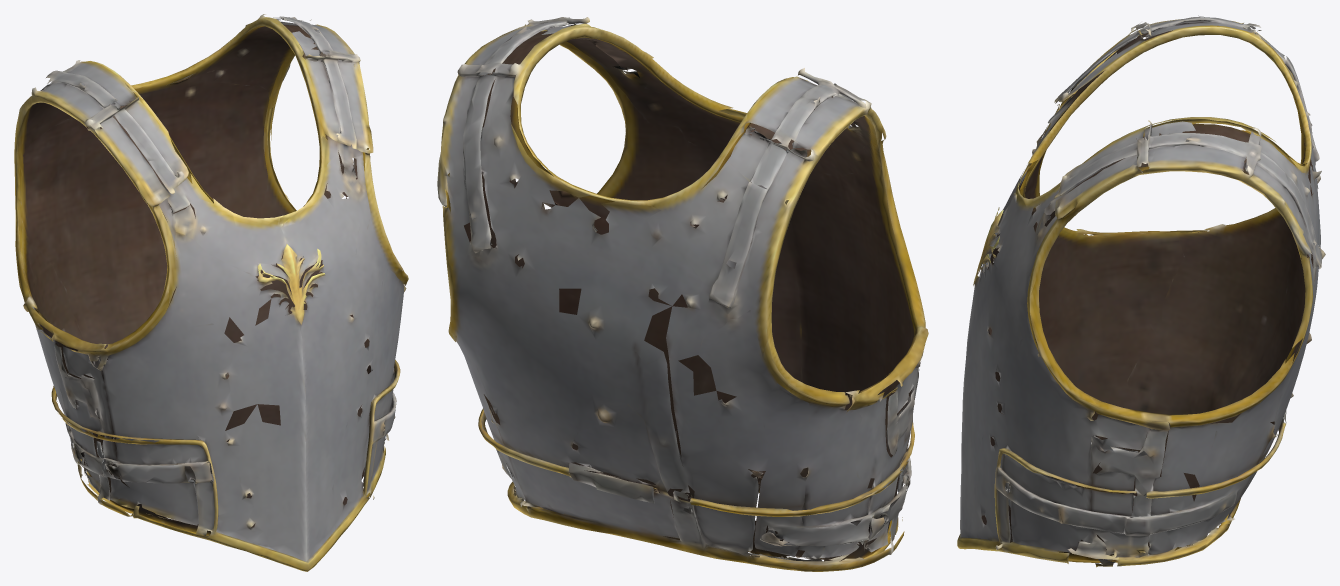
The model's file is armor_warrior_plate_chest.glb.
The picture shows the model from 3 angles, left to right: view 1: azimuth 30°, elevation 25°; view 2: azimuth 150°, elevation 25°; view 3: azimuth 270°, elevation 25°; orthographic projection. The views are drawn at different scales.
Visible parts, largest first — view 1: world; view 2: world; view 3: world.
Boxes of the visible parts, x1,y1,x2,y2 form: world: (14,14,408,571); world: (437,17,928,571); world: (957,15,1325,567).
Bounding box in the file's own units: 0.7873 × 0.9969 × 0.6986.
1 material, 1 textured.
